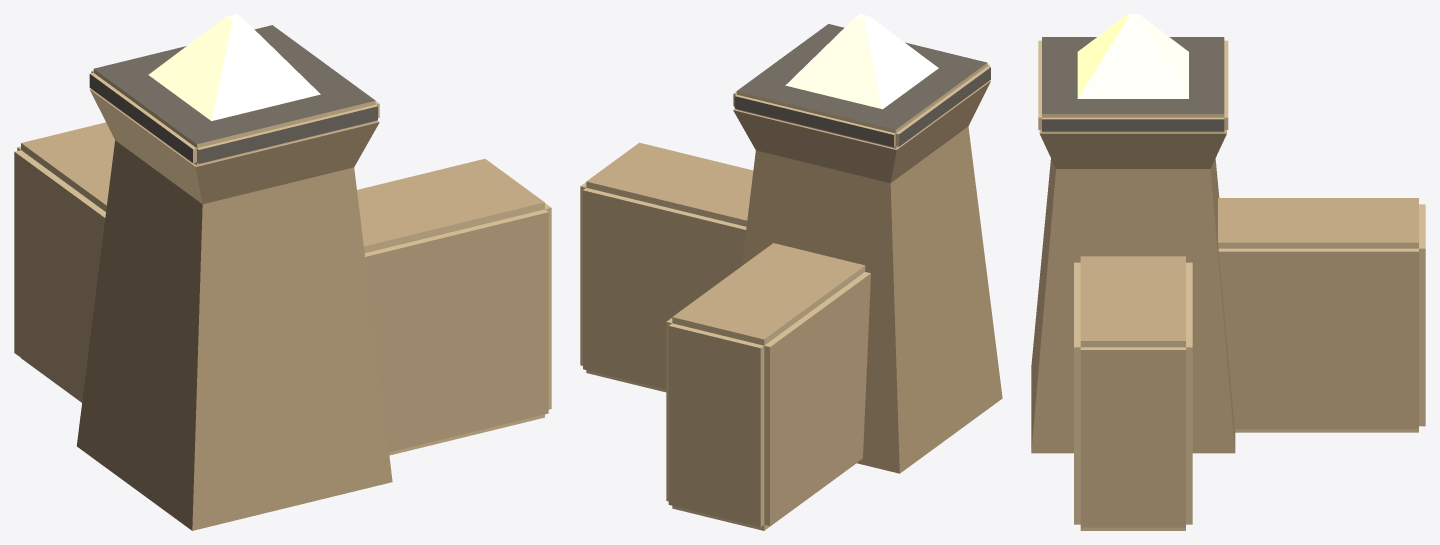
The model's file is TILE_WallCorner.glb.
3 renders of one model, left to right at view 1: azimuth 30°, elevation 25°; view 2: azimuth 150°, elevation 25°; view 3: azimuth 270°, elevation 25°, orthographic. The views are drawn at different scales.
Parts seen in each view (by area): view 1: TILE_WallCorner; view 2: TILE_WallCorner; view 3: TILE_WallCorner.
Boxes of the visible parts, x1=… form: TILE_WallCorner: x1=14, y1=14, x2=551, y2=530; TILE_WallCorner: x1=580, y1=14, x2=1002, y2=530; TILE_WallCorner: x1=1031, y1=14, x2=1425, y2=530.
Size of the model in its own units: 4.05 by 4.46 by 4.05.
